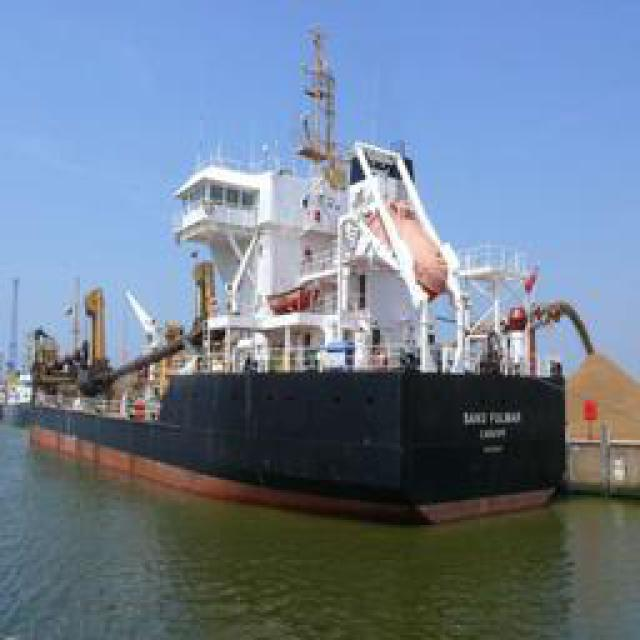Ship: (55, 36, 580, 516)
